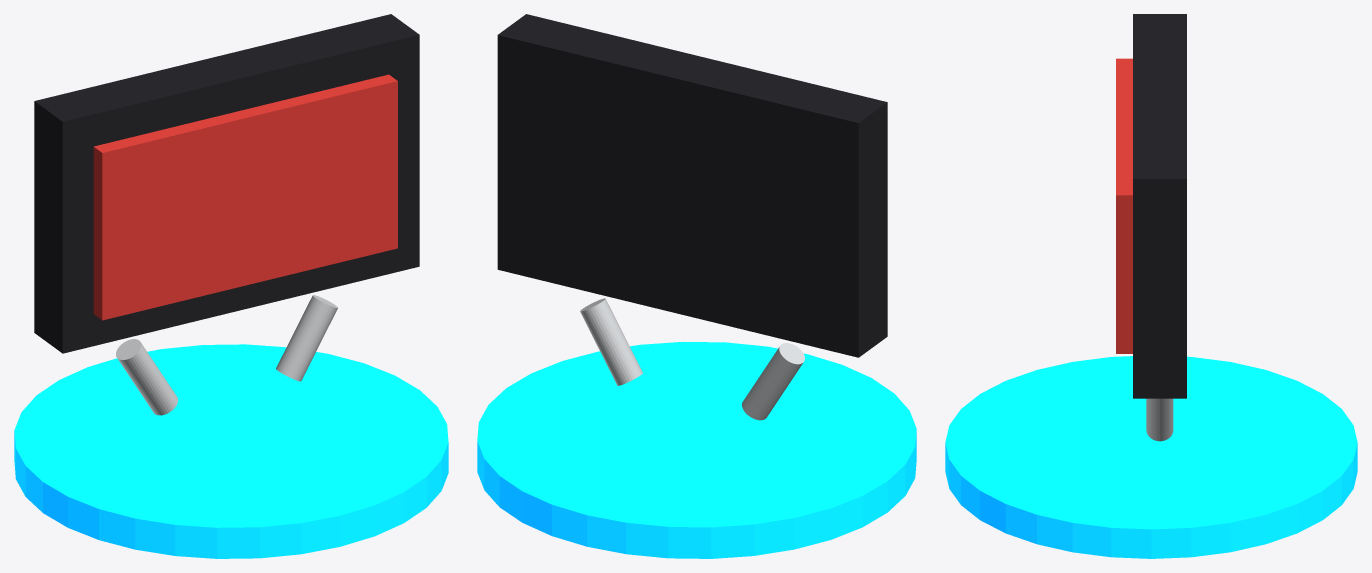
File: news_live_tv.glb
The picture shows the model from 3 angles, left to right: view 1: azimuth 30°, elevation 25°; view 2: azimuth 150°, elevation 25°; view 3: azimuth 270°, elevation 25°; orthographic projection. The views are drawn at different scales.
Visible parts, largest first — view 1: 09_10_Popular_News_Live_TV_ROOT_base, 09_10_Popular_News_Live_TV_part_02, 09_10_Popular_News_Live_TV_part_01, 09_10_Popular_News_Live_TV_part_04, 09_10_Popular_News_Live_TV_part_03; view 2: 09_10_Popular_News_Live_TV_part_01, 09_10_Popular_News_Live_TV_ROOT_base, 09_10_Popular_News_Live_TV_part_04, 09_10_Popular_News_Live_TV_part_03; view 3: 09_10_Popular_News_Live_TV_ROOT_base, 09_10_Popular_News_Live_TV_part_01, 09_10_Popular_News_Live_TV_part_02, 09_10_Popular_News_Live_TV_part_04.
Part boxes in pixels (left/top/right/bottom): 09_10_Popular_News_Live_TV_ROOT_base: left=14, top=344, right=448, bottom=558; 09_10_Popular_News_Live_TV_part_02: left=93, top=74, right=397, bottom=320; 09_10_Popular_News_Live_TV_part_01: left=34, top=14, right=419, bottom=353; 09_10_Popular_News_Live_TV_part_04: left=276, top=295, right=337, bottom=381; 09_10_Popular_News_Live_TV_part_03: left=116, top=339, right=178, bottom=415; 09_10_Popular_News_Live_TV_part_01: left=497, top=14, right=887, bottom=357; 09_10_Popular_News_Live_TV_ROOT_base: left=477, top=341, right=916, bottom=558; 09_10_Popular_News_Live_TV_part_04: left=580, top=298, right=642, bottom=385; 09_10_Popular_News_Live_TV_part_03: left=742, top=343, right=804, bottom=420; 09_10_Popular_News_Live_TV_ROOT_base: left=945, top=356, right=1357, bottom=558; 09_10_Popular_News_Live_TV_part_01: left=1133, top=14, right=1186, bottom=398; 09_10_Popular_News_Live_TV_part_02: left=1116, top=58, right=1132, bottom=353; 09_10_Popular_News_Live_TV_part_04: left=1146, top=398, right=1173, bottom=441.
Size of the model in its own units: 0.76 by 0.7635 by 0.76.
